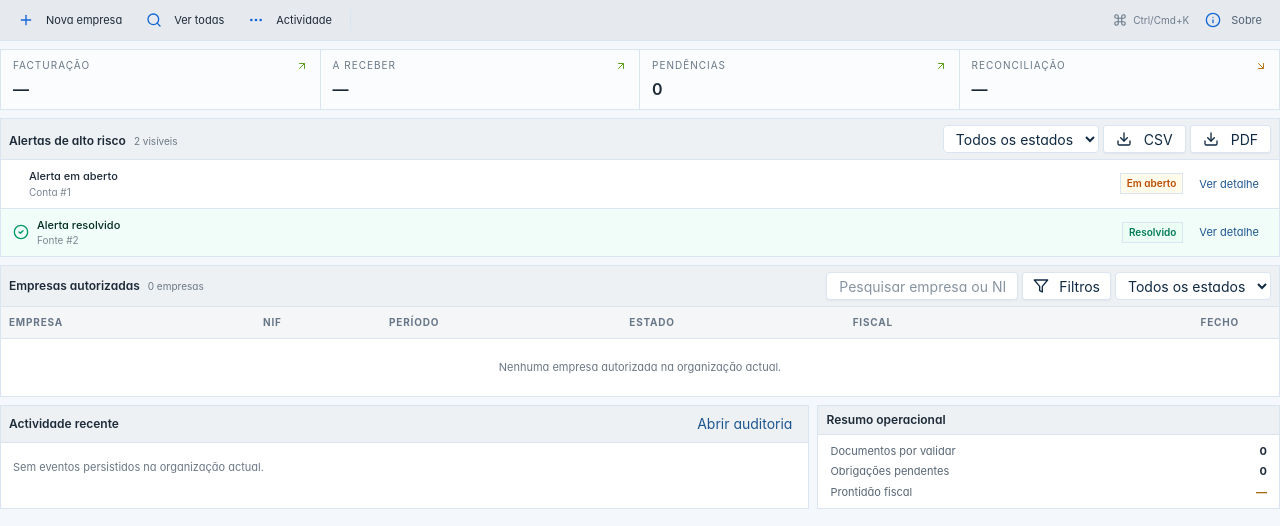
filtro de alertas do dashboard principal › altera os alertas visíveis para o estado seleccionado
Expected: the text "Alerta em aberto" is shown, [29,168,118,184]
Expected: the text "Alerta resolvido" is shown, [37,216,120,233]
Select "Resolvidos" in the dropdown named "Filtrar alertas por estado". click: (1021, 139)
box: [943,125,1099,153]
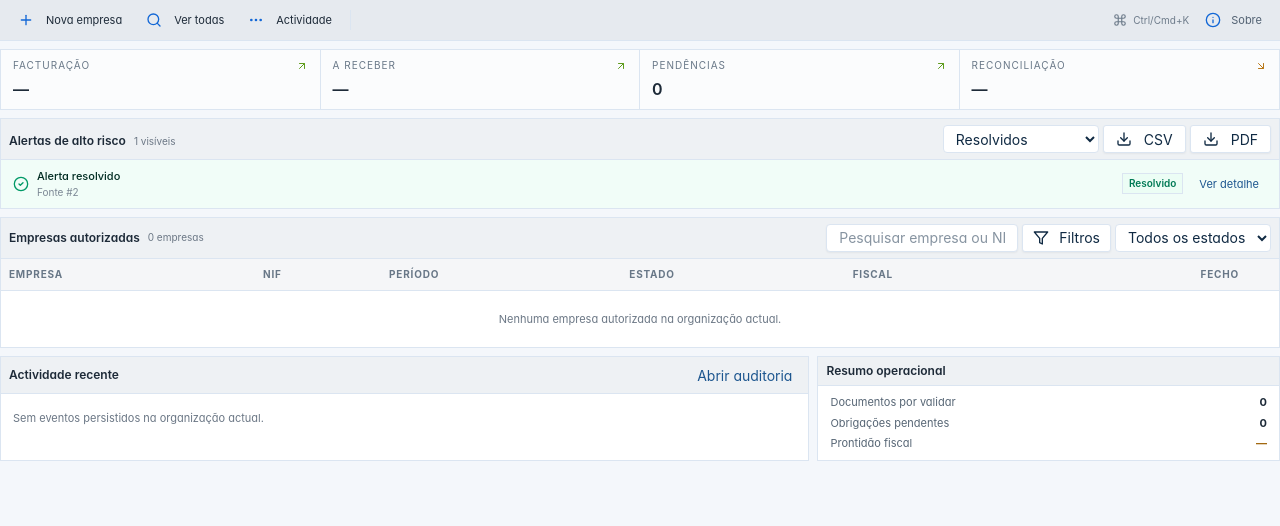
Expected: the text "Alerta resolvido" is shown, [37,168,120,184]
Expected: the text "Alerta em aberto" is gone
